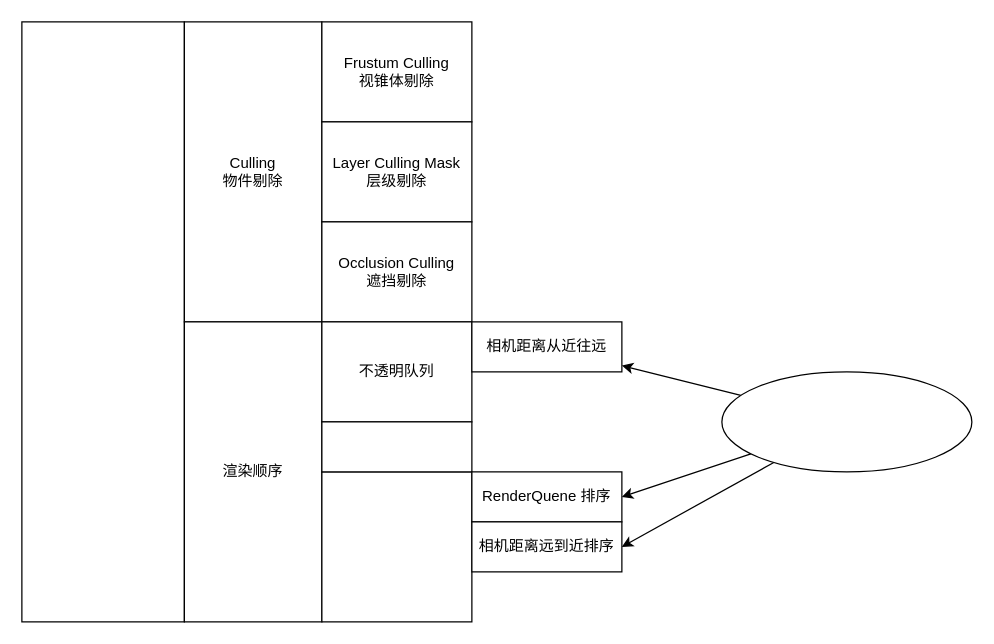
This 994x644 diagram has some shape labels left out. The centre of each missing label's shape, as x and y in pixels:
"CPU" goes at [102,321].
"半透明队列" goes at [396,546].
"天空盒" goes at [396,446].
"相同渲染顺序的多物体，按材质UUID排序" goes at [846,421].
